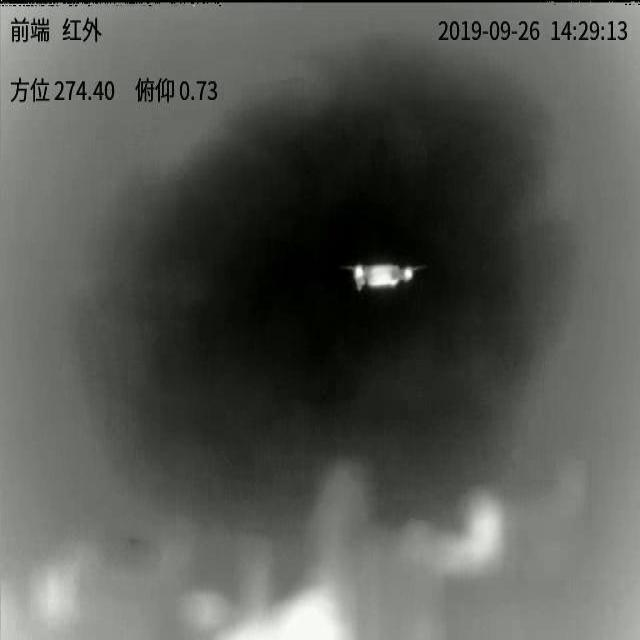drone: (346, 264, 423, 290)
